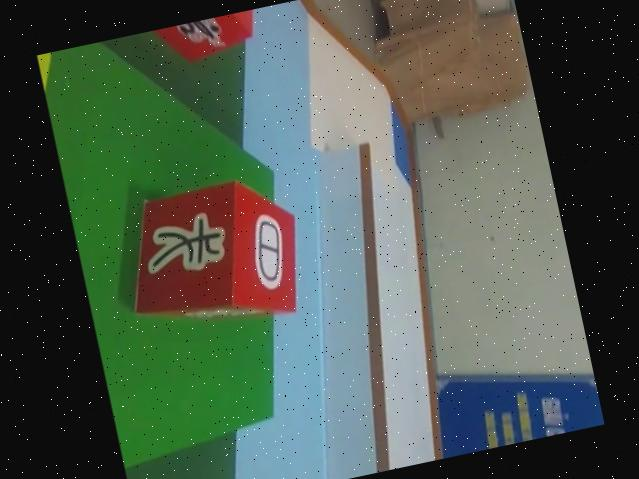R1: (127, 7, 271, 77)
R2 Fake: (109, 168, 313, 344)
